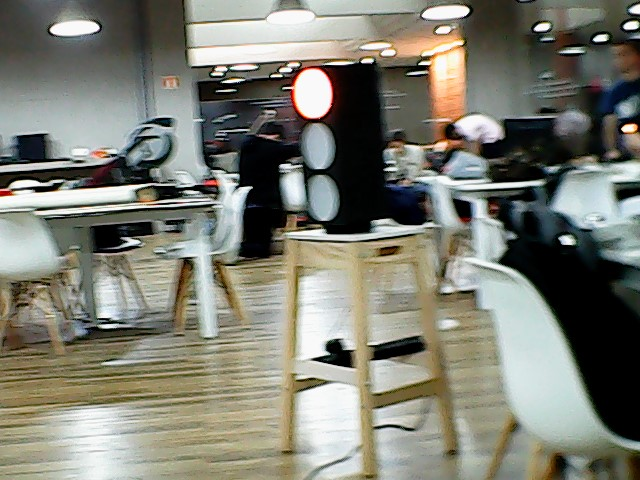vermelho: (291, 63, 395, 219)
